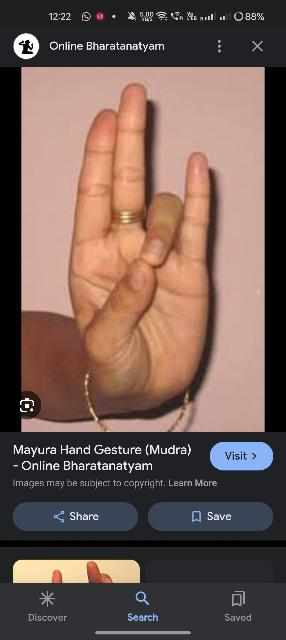mayur: (52, 71, 244, 431), (69, 94, 215, 421)
